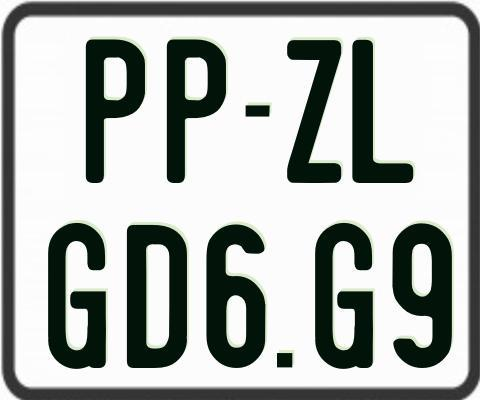6: (205, 222, 266, 370)
9: (389, 223, 453, 374)
D: (127, 224, 193, 372)
G: (46, 220, 110, 372), (312, 222, 375, 371)
L: (350, 37, 415, 185)
P: (165, 37, 229, 181), (86, 36, 147, 181)
Z: (284, 39, 344, 183)
